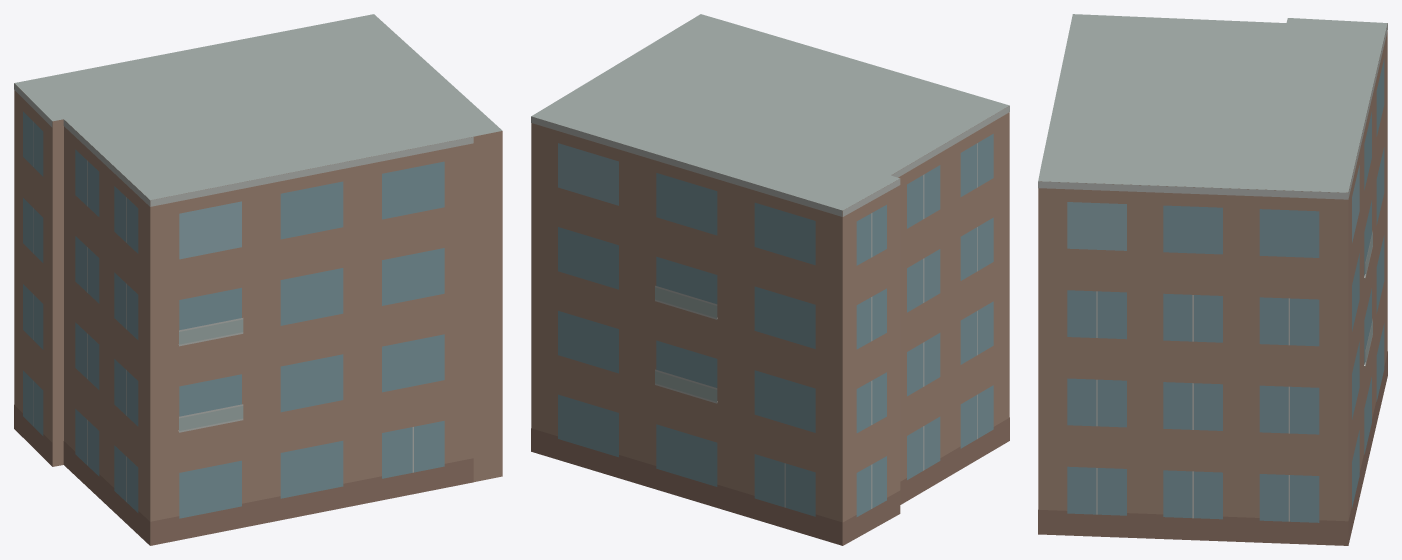
Rendered from survey-upis-32904672.glb.
The picture shows the model from 3 angles, left to right: view 1: azimuth 30°, elevation 25°; view 2: azimuth 150°, elevation 25°; view 3: azimuth 270°, elevation 25°; orthographic projection. The views are drawn at different scales.
Parts seen in each view (by area): view 1: survey-upis-32904672.tmp; view 2: survey-upis-32904672.tmp; view 3: survey-upis-32904672.tmp.
Boxes of the visible parts, x1,y1,x2,y2 form: survey-upis-32904672.tmp: (14, 14, 502, 545); survey-upis-32904672.tmp: (531, 14, 1009, 545); survey-upis-32904672.tmp: (1038, 14, 1387, 545).
Size of the model in its own units: 13.64 by 12.55 by 11.26.
